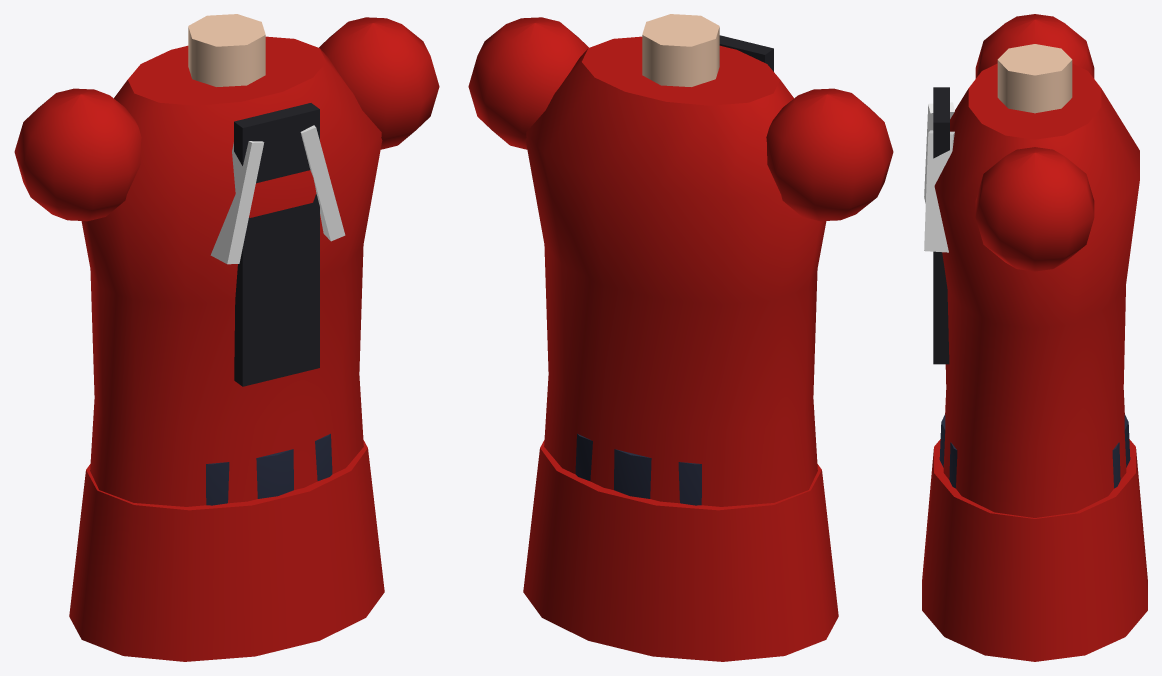
Rendered from SM_Avatar_Torso.fbx.
The picture shows the model from 3 angles, left to right: view 1: azimuth 30°, elevation 25°; view 2: azimuth 150°, elevation 25°; view 3: azimuth 270°, elevation 25°; orthographic projection. The views are drawn at different scales.
Parts seen in each view (by area): view 1: SM_Avatar_Torso; view 2: SM_Avatar_Torso; view 3: SM_Avatar_Torso.
Boxes of the visible parts, bbox=[...] form: SM_Avatar_Torso: bbox=[14, 14, 439, 661]; SM_Avatar_Torso: bbox=[468, 14, 893, 661]; SM_Avatar_Torso: bbox=[922, 14, 1147, 661].
Size of the model in its own units: 0.528 by 0.71 by 0.2713.
